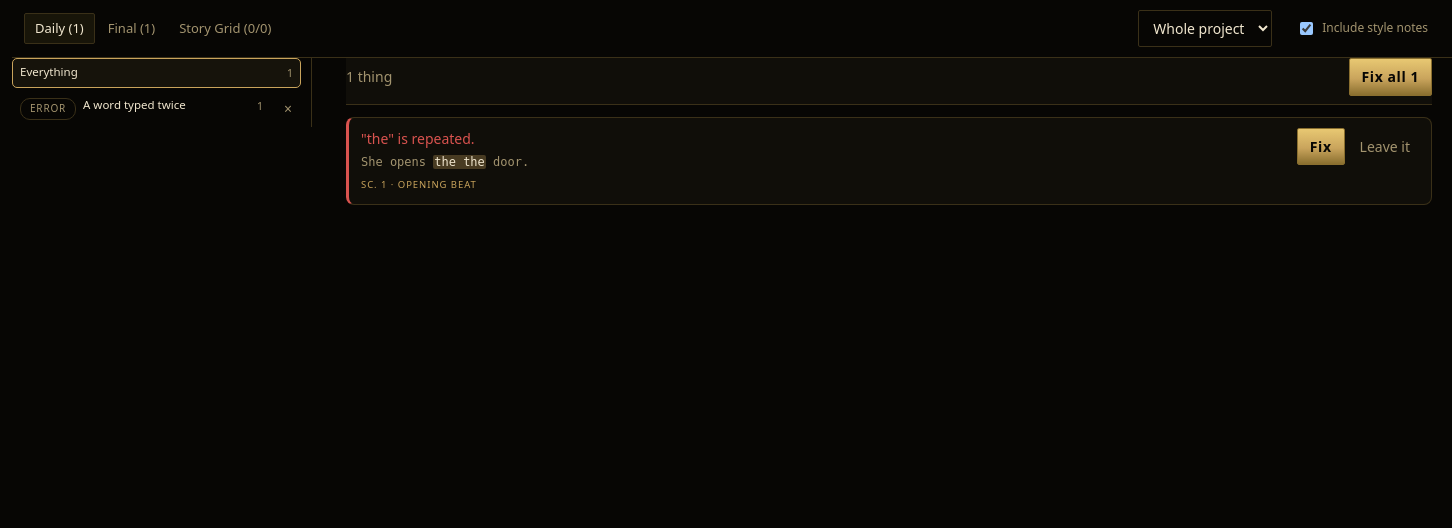
Test: final editor panel › lists the scenes and says plainly that the turn has not been read
Step 1. Click the tab "Final (1)" → (132, 28), box x1=97 y1=13 x2=166 y2=44
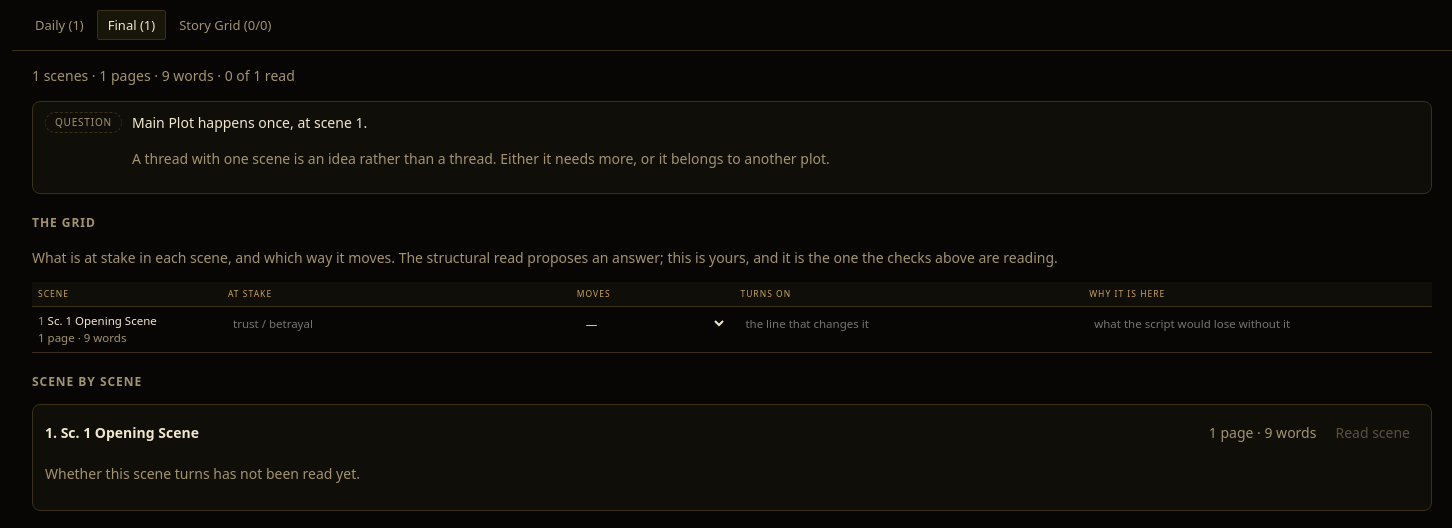
Check: the heading "Scene by scene" is shown, box x1=32 y1=373 x2=142 y2=390
Check: the text "Whether this scene turns has not been read yet." is shown, box x1=45 y1=464 x2=360 y2=483
